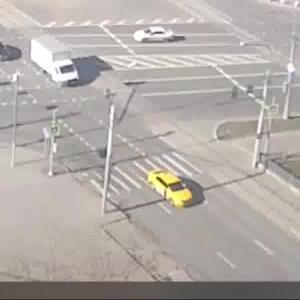car: (27, 34, 81, 88), (145, 169, 200, 214), (133, 23, 181, 46)
